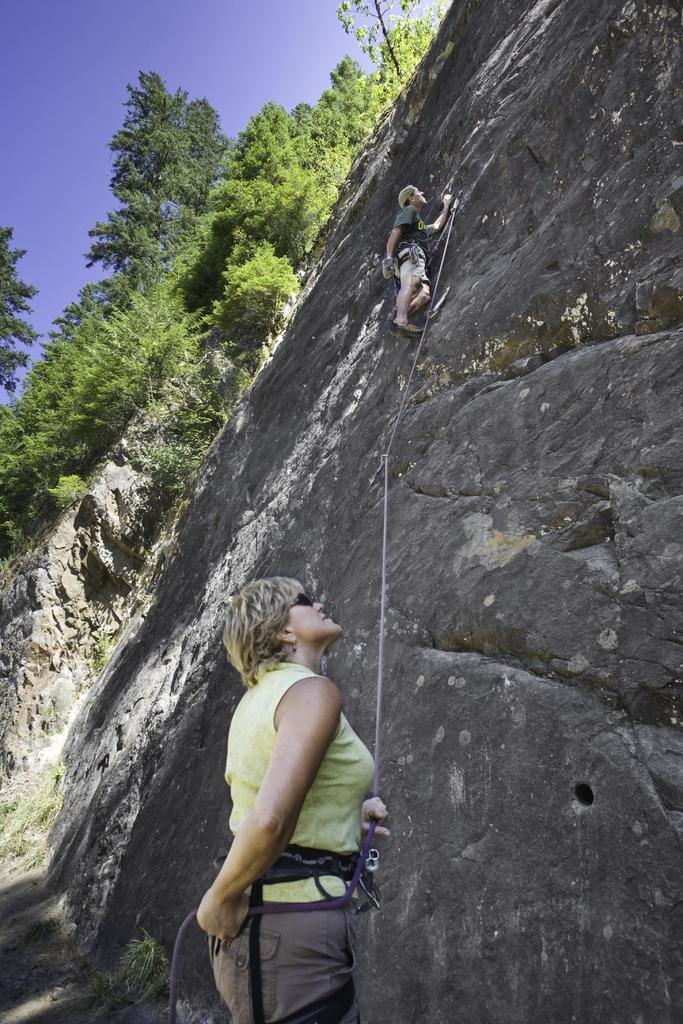Person: (382, 183, 454, 342)
